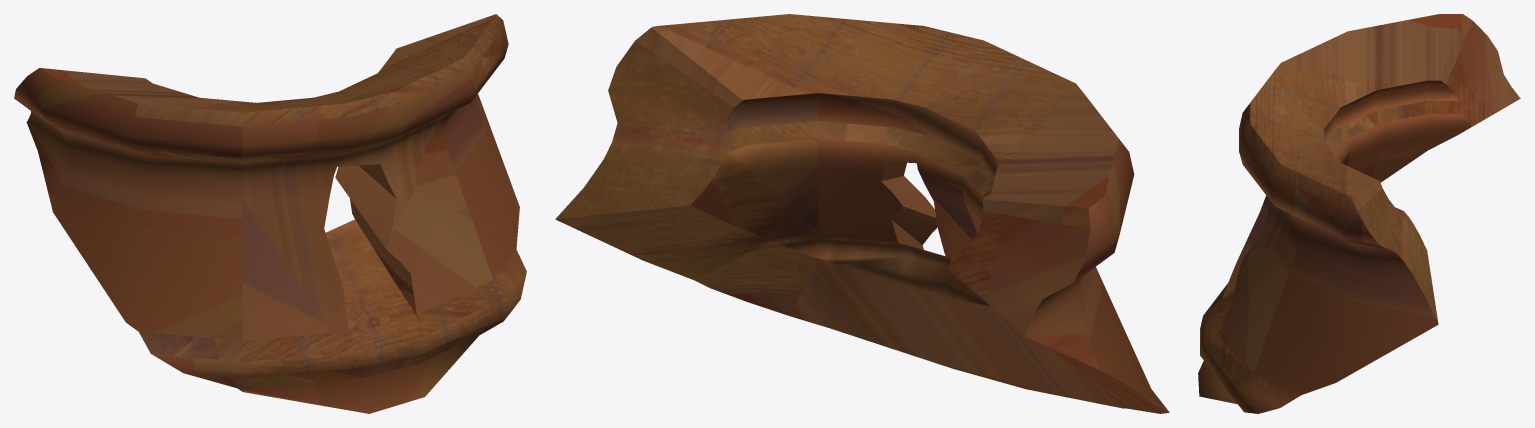
The model's file is brokebottle2-2.fbx.
3 views of the same model, side by side, from view 1: azimuth 30°, elevation 25°; view 2: azimuth 150°, elevation 25°; view 3: azimuth 270°, elevation 25° (orthographic). The views are drawn at different scales.
Parts seen in each view (by area): view 1: polySurface19; view 2: polySurface19; view 3: polySurface19.
Part boxes in pixels (x1,y1,x2,y2): polySurface19: (14,14,526,413); polySurface19: (555,14,1169,413); polySurface19: (1198,14,1520,413).
Bounding box in the file's own units: 37.25 × 23.59 × 25.34.
